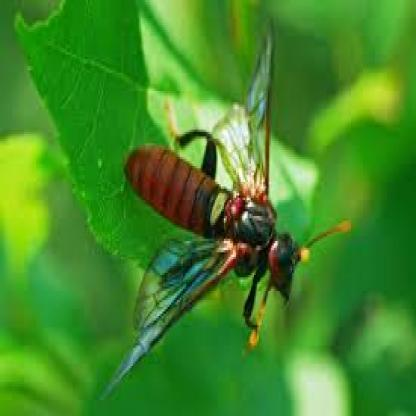sawfly: (104, 16, 351, 400)
